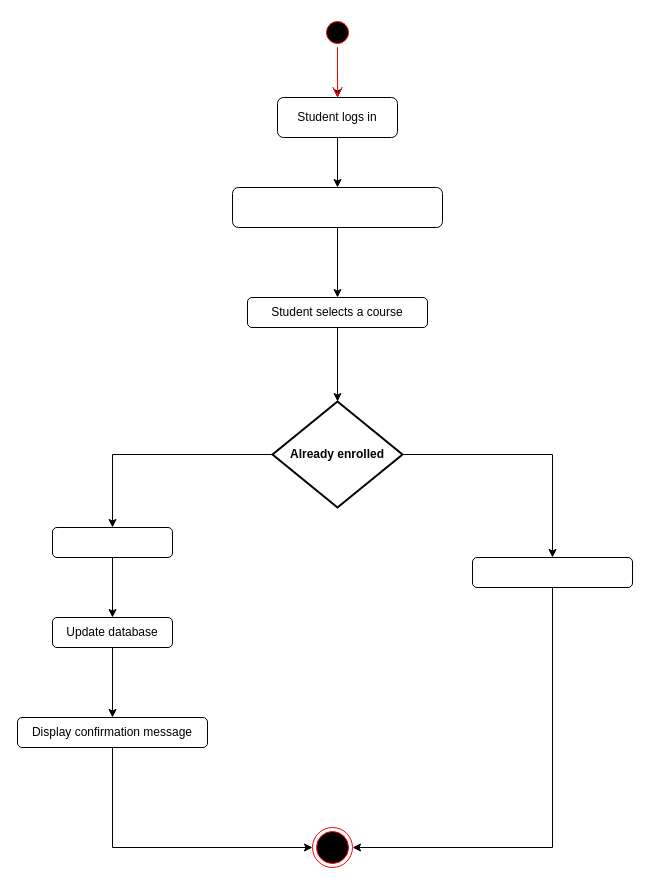
Image size: 650x885. Some labels were removed from this diagram. The shapes that lost their labels are listed below. From the top down, each one's centre as x and y in pixels, then its label:
At (x=337, y=207): "System displays available courses".
At (x=112, y=542): "Confirm enrollment".
At (x=552, y=572): "Display error message".
